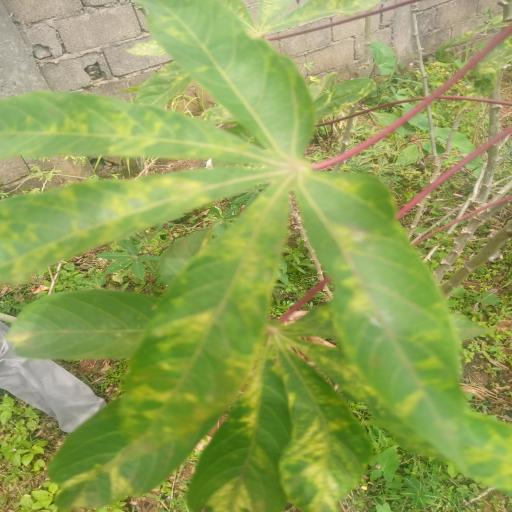Cassava_Mosaic: (2, 0, 512, 512), (12, 287, 512, 512)
